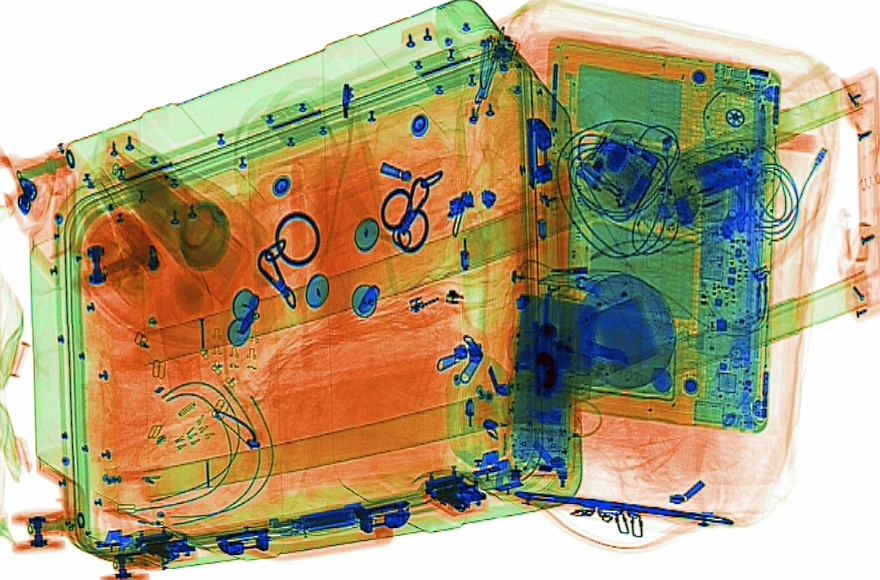powerbank: (510, 290, 601, 406)
